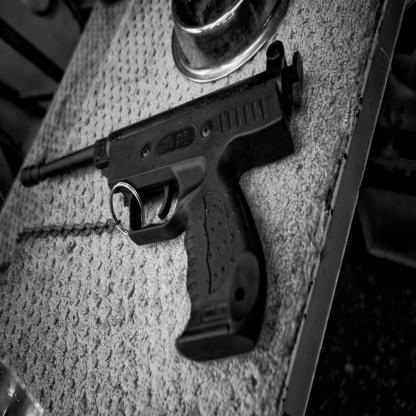Handgun: (20, 40, 303, 361)
